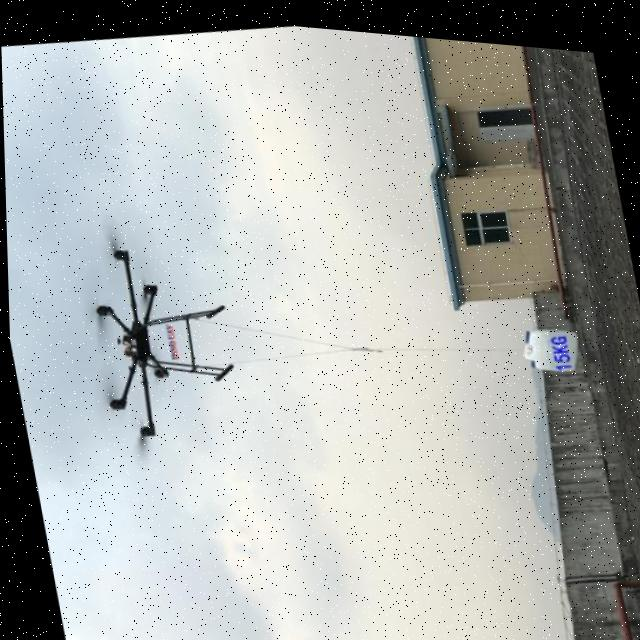drones: (18, 164, 367, 510)
